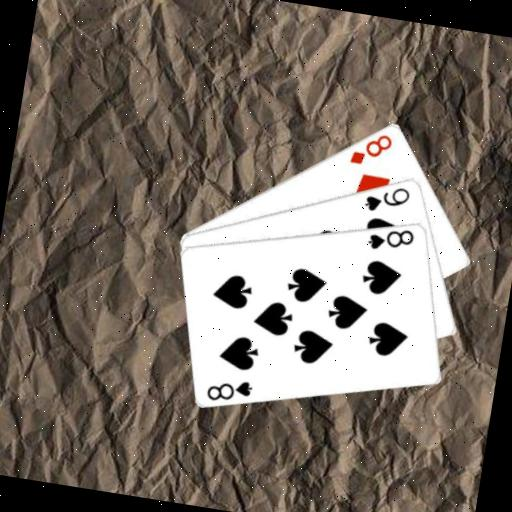8D: (346, 125, 395, 170)
8S: (363, 220, 417, 256), (202, 372, 256, 408)
9S: (360, 178, 413, 218)
